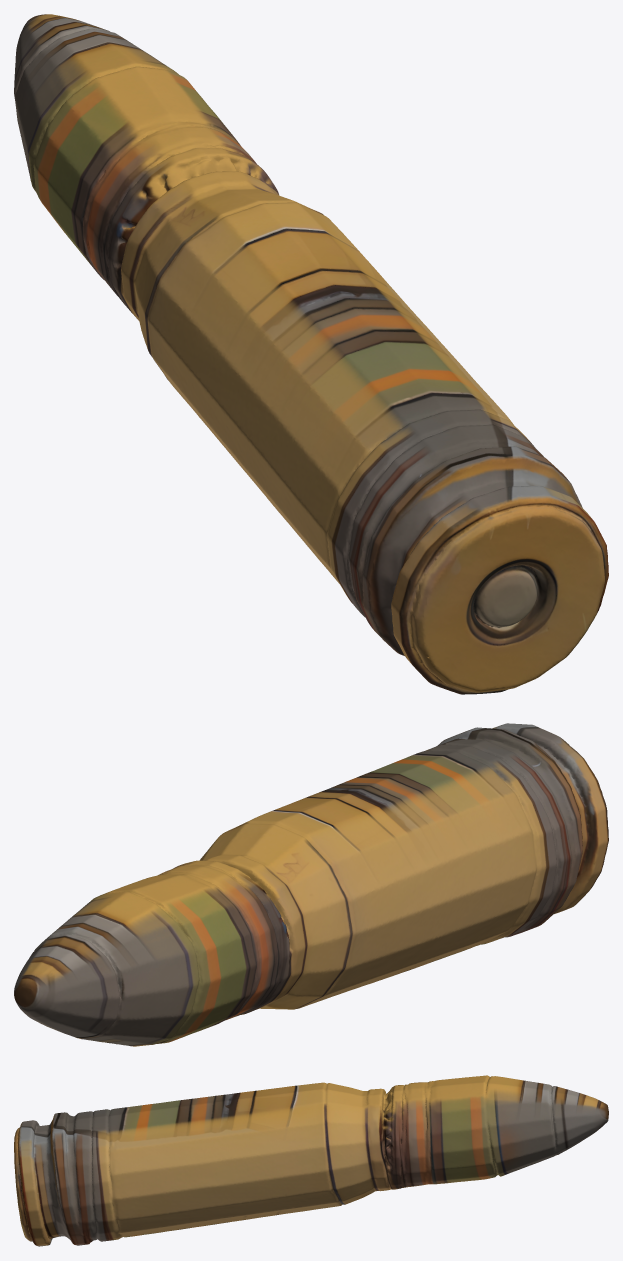
Rendered from tripo_convert_7c7487c3-c1a3-4cdd-a9f3-4c964c3f4bf0.fbx.
3 renders of one model, top to bottom at view 1: azimuth 30°, elevation 25°; view 2: azimuth 150°, elevation 25°; view 3: azimuth 270°, elevation 25°, orthographic. The views are drawn at different scales.
Visible parts, largest first — view 1: tripo_node_7c7487c3; view 2: tripo_node_7c7487c3; view 3: tripo_node_7c7487c3.
Part boxes in pixels (left/top/right/bottom): tripo_node_7c7487c3: left=14, top=14, right=608, bottom=694; tripo_node_7c7487c3: left=14, top=723, right=608, bottom=1046; tripo_node_7c7487c3: left=14, top=1075, right=608, bottom=1246.
Size of the model in its own units: 0.2368 by 0.3165 by 1.
1 material, 1 textured.
